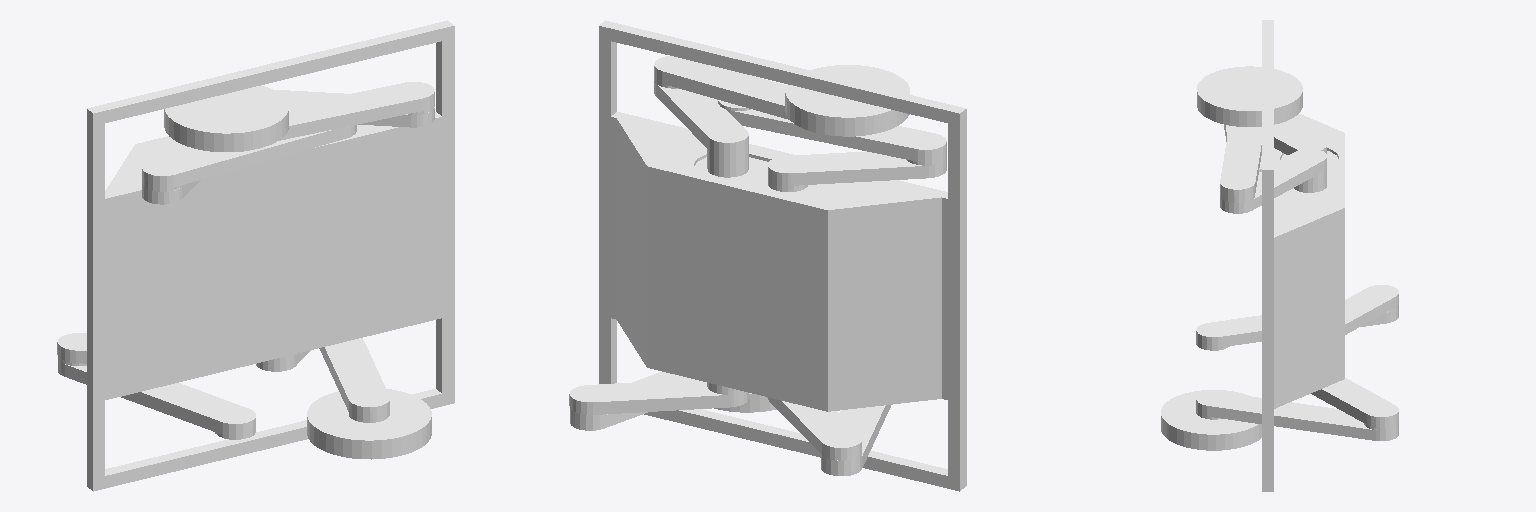
URDF robot description (robot):
<?xml version="1.0" encoding="utf-8"?>
<!-- This URDF was automatically created by SolidWorks to URDF Exporter! Originally created by [author] ([email redacted]) 
     Commit Version: 1.6.0-4-g7f85cfe  Build Version: 1.6.7995.38578
     For more information, please see http://wiki.ros.org/sw_urdf_exporter -->
<robot
  name="robot">
  <link
    name="base_link">
    <inertial>
      <origin
        xyz="3.29597460435593E-17 0.0600600740935481 2.22044604925031E-16"
        rpy="0 0 0" />
      <mass
        value="20.4614601836601" />
      <inertia
        ixx="0.249216414234592"
        ixy="-1.6013655419642E-17"
        ixz="2.4740773598114E-17"
        iyy="0.6175648877969"
        iyz="-4.29674560252043E-17"
        izz="0.435038252585552" />
    </inertial>
    <visual>
      <origin
        xyz="0 0 0"
        rpy="0 0 0" />
      <geometry>
        <mesh
          filename="package://robot/meshes/base_link.STL" />
      </geometry>
      <material
        name="">
        <color
          rgba="1 1 1 1" />
      </material>
    </visual>
    <collision>
      <origin
        xyz="0 0 0"
        rpy="0 0 0" />
      <geometry>
        <mesh
          filename="package://robot/meshes/base_link.STL" />
      </geometry>
    </collision>
  </link>
  <link
    name="LB_1">
    <inertial>
      <origin
        xyz="-0.0912954643793855 -4.30211422042248E-16 0.0113056803430923"
        rpy="0 0 0" />
      <mass
        value="0.324823001646924" />
      <inertia
        ixx="0.000107013716905788"
        ixy="1.46984702766107E-19"
        ixz="-3.87197766270466E-05"
        iyy="0.00180263223873226"
        iyz="4.41635737594729E-20"
        izz="0.00187778887256759" />
    </inertial>
    <visual>
      <origin
        xyz="0 0 0"
        rpy="0 0 0" />
      <geometry>
        <mesh
          filename="package://robot/meshes/LB_1.STL" />
      </geometry>
      <material
        name="">
        <color
          rgba="1 1 1 1" />
      </material>
    </visual>
    <collision>
      <origin
        xyz="0 0 0"
        rpy="0 0 0" />
      <geometry>
        <mesh
          filename="package://robot/meshes/LB_1.STL" />
      </geometry>
    </collision>
  </link>
  <joint
    name="LB_1"
    type="revolute">
    <origin
      xyz="-0.05 0.08 -0.185"
      rpy="0 0 0" />
    <parent
      link="base_link" />
    <child
      link="LB_1" />
    <axis
      xyz="0 0 -1" />
    <limit
      lower="0.2617"
      upper="1.0466"
      effort="0"
      velocity="0" />
  </joint>
  <link
    name="LB_2">
    <inertial>
      <origin
        xyz="0.15 0 0.01"
        rpy="0 0 0" />
      <mass
        value="0.444823001646924" />
      <inertia
        ixx="0.000145446900494077"
        ixy="-3.08055646145075E-19"
        ixz="5.30143760293281E-05"
        iyy="0.00486196443754987"
        iyz="-8.24555454475602E-20"
        izz="0.00497068788779691" />
    </inertial>
    <visual>
      <origin
        xyz="0 0 0"
        rpy="0 0 0" />
      <geometry>
        <mesh
          filename="package://robot/meshes/LB_2.STL" />
      </geometry>
      <material
        name="">
        <color
          rgba="1 1 1 1" />
      </material>
    </visual>
    <collision>
      <origin
        xyz="0 0 0"
        rpy="0 0 0" />
      <geometry>
        <mesh
          filename="package://robot/meshes/LB_2.STL" />
      </geometry>
    </collision>
  </link>
  <joint
    name="LB_2"
    type="revolute">
    <origin
      xyz="-0.2 0 -0.025"
      rpy="0 0 -0.58569" />
    <parent
      link="LB_1" />
    <child
      link="LB_2" />
    <axis
      xyz="0 0 -1" />
    <limit
      lower="0"
      upper="0"
      effort="0"
      velocity="0" />
  </joint>
  <link
    name="LF_1">
    <inertial>
      <origin
        xyz="0.0749790246153097 5.96744875736022E-16 0.0168807682307895"
        rpy="0 0 0" />
      <mass
        value="0.395508836352695" />
      <inertia
        ixx="0.000183089900579248"
        ixy="1.34582027423028E-19"
        ixz="0.000204048265203773"
        iyy="0.0023625702698755"
        iyz="-1.3974866137207E-20"
        izz="0.00239345934565496" />
    </inertial>
    <visual>
      <origin
        xyz="0 0 0"
        rpy="0 0 0" />
      <geometry>
        <mesh
          filename="package://robot/meshes/LF_1.STL" />
      </geometry>
      <material
        name="">
        <color
          rgba="1 1 1 1" />
      </material>
    </visual>
    <collision>
      <origin
        xyz="0 0 0"
        rpy="0 0 0" />
      <geometry>
        <mesh
          filename="package://robot/meshes/LF_1.STL" />
      </geometry>
    </collision>
  </link>
  <joint
    name="LF_1"
    type="revolute">
    <origin
      xyz="0.05 0.08 -0.21"
      rpy="0 0 0" />
    <parent
      link="base_link" />
    <child
      link="LF_1" />
    <axis
      xyz="0 0 -1" />
    <limit
      lower="-0.2617"
      upper="-1.0466"
      effort="0"
      velocity="0" />
  </joint>
  <link
    name="LF_2">
    <inertial>
      <origin
        xyz="-0.15 -1.38777878078145E-17 0.01"
        rpy="0 0 0" />
      <mass
        value="0.444823001646924" />
      <inertia
        ixx="0.000145446900494078"
        ixy="-1.30943819243349E-20"
        ixz="-5.30143760293279E-05"
        iyy="0.00486196443754988"
        iyz="-9.34435693775815E-20"
        izz="0.00497068788779692" />
    </inertial>
    <visual>
      <origin
        xyz="0 0 0"
        rpy="0 0 0" />
      <geometry>
        <mesh
          filename="package://robot/meshes/LF_2.STL" />
      </geometry>
      <material
        name="">
        <color
          rgba="1 1 1 1" />
      </material>
    </visual>
    <collision>
      <origin
        xyz="0 0 0"
        rpy="0 0 0" />
      <geometry>
        <mesh
          filename="package://robot/meshes/LF_2.STL" />
      </geometry>
    </collision>
  </link>
  <joint
    name="LF_2"
    type="revolute">
    <origin
      xyz="0.2 0 -0.025"
      rpy="0 0 0.58569" />
    <parent
      link="LF_1" />
    <child
      link="LF_2" />
    <axis
      xyz="0 0 -1" />
    <limit
      lower="0"
      upper="0"
      effort="0"
      velocity="0" />
  </joint>
  <link
    name="L">
    <inertial>
      <origin
        xyz="-8.67361737988404E-19 0 0.0150000000000001"
        rpy="0 0 0" />
      <mass
        value="0.763407014822321" />
      <inertia
        ixx="0.00160315473112687"
        ixy="-1.43995601033231E-20"
        ixz="-7.10198537447999E-25"
        iyy="0.00160315473112687"
        iyz="2.95431016671097E-24"
        izz="0.0030917984100304" />
    </inertial>
    <visual>
      <origin
        xyz="0 0 0"
        rpy="0 0 0" />
      <geometry>
        <mesh
          filename="package://robot/meshes/L.STL" />
      </geometry>
      <material
        name="">
        <color
          rgba="1 1 1 1" />
      </material>
    </visual>
    <collision>
      <origin
        xyz="0 0 0"
        rpy="0 0 0" />
      <geometry>
        <mesh
          filename="package://robot/meshes/L.STL" />
      </geometry>
    </collision>
  </link>
  <joint
    name="L"
    type="revolute">
    <origin
      xyz="-0.3 0 -0.0350000000000001"
      rpy="0 0 -0.58568554345715" />
    <parent
      link="LF_2" />
    <child
      link="L" />
    <axis
      xyz="0 0 1" />
    <limit
      lower="0"
      upper="0"
      effort="0"
      velocity="0" />
  </joint>
  <link
    name="RF_1">
    <inertial>
      <origin
        xyz="0.0749790246153108 -5.55111512312578E-17 -0.0168807682307895"
        rpy="0 0 0" />
      <mass
        value="0.395508836352695" />
      <inertia
        ixx="0.000183089900579248"
        ixy="1.76861673227501E-19"
        ixz="-0.000204048265203774"
        iyy="0.0023625702698755"
        iyz="6.28467776911069E-21"
        izz="0.00239345934565496" />
    </inertial>
    <visual>
      <origin
        xyz="0 0 0"
        rpy="0 0 0" />
      <geometry>
        <mesh
          filename="package://robot/meshes/RF_1.STL" />
      </geometry>
      <material
        name="">
        <color
          rgba="1 1 1 1" />
      </material>
    </visual>
    <collision>
      <origin
        xyz="0 0 0"
        rpy="0 0 0" />
      <geometry>
        <mesh
          filename="package://robot/meshes/RF_1.STL" />
      </geometry>
    </collision>
  </link>
  <joint
    name="RF_1"
    type="revolute">
    <origin
      xyz="0.05 0.08 0.21"
      rpy="0 0 0" />
    <parent
      link="base_link" />
    <child
      link="RF_1" />
    <axis
      xyz="0 0 1" />
    <limit
      lower="-0.2617"
      upper="-1.0466"
      effort="0"
      velocity="0" />
  </joint>
  <link
    name="RF_2">
    <inertial>
      <origin
        xyz="-0.15 2.08166817117217E-17 -0.01"
        rpy="0 0 0" />
      <mass
        value="0.444823001646925" />
      <inertia
        ixx="0.000145446900494078"
        ixy="2.98155597433514E-19"
        ixz="5.30143760293279E-05"
        iyy="0.00486196443754988"
        iyz="-1.01643953670516E-20"
        izz="0.00497068788779692" />
    </inertial>
    <visual>
      <origin
        xyz="0 0 0"
        rpy="0 0 0" />
      <geometry>
        <mesh
          filename="package://robot/meshes/RF_2.STL" />
      </geometry>
      <material
        name="">
        <color
          rgba="1 1 1 1" />
      </material>
    </visual>
    <collision>
      <origin
        xyz="0 0 0"
        rpy="0 0 0" />
      <geometry>
        <mesh
          filename="package://robot/meshes/RF_2.STL" />
      </geometry>
    </collision>
  </link>
  <joint
    name="RF_2"
    type="revolute">
    <origin
      xyz="0.2 0 0.025"
      rpy="0 0 0.58568554345715" />
    <parent
      link="RF_1" />
    <child
      link="RF_2" />
    <axis
      xyz="0 0 -1" />
    <limit
      lower="0"
      upper="0"
      effort="0"
      velocity="0" />
  </joint>
  <link
    name="R">
    <inertial>
      <origin
        xyz="-8.67361737988404E-19 0 -0.0149999999999999"
        rpy="0 0 0" />
      <mass
        value="0.763407014822321" />
      <inertia
        ixx="0.00160315473112687"
        ixy="-1.86347248395946E-19"
        ixz="-1.93699604447607E-24"
        iyy="0.00160315473112687"
        iyz="2.42191734012324E-24"
        izz="0.0030917984100304" />
    </inertial>
    <visual>
      <origin
        xyz="0 0 0"
        rpy="0 0 0" />
      <geometry>
        <mesh
          filename="package://robot/meshes/R.STL" />
      </geometry>
      <material
        name="">
        <color
          rgba="1 1 1 1" />
      </material>
    </visual>
    <collision>
      <origin
        xyz="0 0 0"
        rpy="0 0 0" />
      <geometry>
        <mesh
          filename="package://robot/meshes/R.STL" />
      </geometry>
    </collision>
  </link>
  <joint
    name="R"
    type="revolute">
    <origin
      xyz="-0.3 0 0.035"
      rpy="0 0 -0.58568554345715" />
    <parent
      link="RF_2" />
    <child
      link="R" />
    <axis
      xyz="0 0 1" />
    <limit
      lower="0"
      upper="0"
      effort="0"
      velocity="0" />
  </joint>
  <link
    name="RB_1">
    <inertial>
      <origin
        xyz="-0.0912954643793854 -3.88578058618805E-16 -0.0113056803430923"
        rpy="0 0 0" />
      <mass
        value="0.324823001646925" />
      <inertia
        ixx="0.000107013716905788"
        ixy="7.29891813641705E-21"
        ixz="3.87197766270465E-05"
        iyy="0.00180263223873226"
        iyz="1.57649040573712E-22"
        izz="0.00187778887256759" />
    </inertial>
    <visual>
      <origin
        xyz="0 0 0"
        rpy="0 0 0" />
      <geometry>
        <mesh
          filename="package://robot/meshes/RB_1.STL" />
      </geometry>
      <material
        name="">
        <color
          rgba="1 1 1 1" />
      </material>
    </visual>
    <collision>
      <origin
        xyz="0 0 0"
        rpy="0 0 0" />
      <geometry>
        <mesh
          filename="package://robot/meshes/RB_1.STL" />
      </geometry>
    </collision>
  </link>
  <joint
    name="RB_1"
    type="revolute">
    <origin
      xyz="-0.05 0.08 0.185"
      rpy="0 0 0" />
    <parent
      link="base_link" />
    <child
      link="RB_1" />
    <axis
      xyz="0 0 1" />
    <limit
      lower="0.2617"
      upper="1.0466"
      effort="0"
      velocity="0" />
  </joint>
  <link
    name="RB_2">
    <inertial>
      <origin
        xyz="0.15 0 -0.01"
        rpy="0 0 0" />
      <mass
        value="0.444823001646925" />
      <inertia
        ixx="0.000145446900494077"
        ixy="3.9979955110403E-19"
        ixz="-5.30143760293278E-05"
        iyy="0.00486196443754988"
        iyz="1.01643953670516E-20"
        izz="0.00497068788779692" />
    </inertial>
    <visual>
      <origin
        xyz="0 0 0"
        rpy="0 0 0" />
      <geometry>
        <mesh
          filename="package://robot/meshes/RB_2.STL" />
      </geometry>
      <material
        name="">
        <color
          rgba="1 1 1 1" />
      </material>
    </visual>
    <collision>
      <origin
        xyz="0 0 0"
        rpy="0 0 0" />
      <geometry>
        <mesh
          filename="package://robot/meshes/RB_2.STL" />
      </geometry>
    </collision>
  </link>
  <joint
    name="RB_2"
    type="revolute">
    <origin
      xyz="-0.2 0 0.025"
      rpy="0 0 -0.585685543457153" />
    <parent
      link="RB_1" />
    <child
      link="RB_2" />
    <axis
      xyz="0 0 -1" />
    <limit
      lower="0"
      upper="0"
      effort="0"
      velocity="0" />
  </joint>
</robot>

--- Render facts (derived) ---
The picture shows the robot from 3 angles, left to right: view 1: azimuth 30°, elevation 25°; view 2: azimuth 150°, elevation 25°; view 3: azimuth 270°, elevation 25°; orthographic projection.
Model robot with 11 links and 10 joints (10 revolute), rooted at base_link, posed all joints at 0 but 4 set to mid-range because 0 is outside their limits (LB_1 = 0.6542, LF_1 = -0.6542, RF_1 = -0.6542, RB_1 = 0.6542).
Links seen in each view (by area): view 1: base_link, R, L, RF_2, RB_2, LB_2, LF_2, RF_1, LB_1, RB_1, LF_1; view 2: base_link, R, LF_1, RB_1, RF_1, RF_2, RB_2, LB_1, LB_2, LF_2, L; view 3: base_link, R, LF_2, L, RF_2, RF_1, LF_1, LB_2, LB_1, RB_1.
Boxes of the visible links, x1,y1,x2,y2 form: base_link: (87,20,454,491); R: (164,85,288,151); L: (307,389,431,459); RF_2: (279,82,434,140); RB_2: (142,125,356,191); LB_2: (58,357,255,439); LF_2: (319,338,389,422); RF_1: (275,90,434,127); LB_1: (57,333,86,363); RB_1: (142,143,200,204); LF_1: (256,350,310,371); base_link: (599,20,966,491); R: (785,65,909,136); LF_1: (569,379,748,414); RB_1: (768,151,946,191); RF_1: (654,81,748,177); RF_2: (654,56,788,119); RB_2: (718,100,946,165); LB_1: (767,397,861,460); LB_2: (821,405,890,475); LF_2: (570,372,690,430); L: (714,393,776,412); base_link: (1262,20,1344,491); R: (1197,66,1302,126); LF_2: (1196,391,1398,440); L: (1161,390,1261,450); RF_2: (1220,126,1261,202); RF_1: (1220,149,1326,213); LF_1: (1311,378,1398,427); LB_2: (1196,305,1398,350); LB_1: (1345,285,1398,334); RB_1: (1274,121,1326,154).
Size in the robot's own frame: 0.6 by 0.4037 by 0.6 metres.
11 mesh visuals loaded from 11 distinct referenced files (11 binary STL).